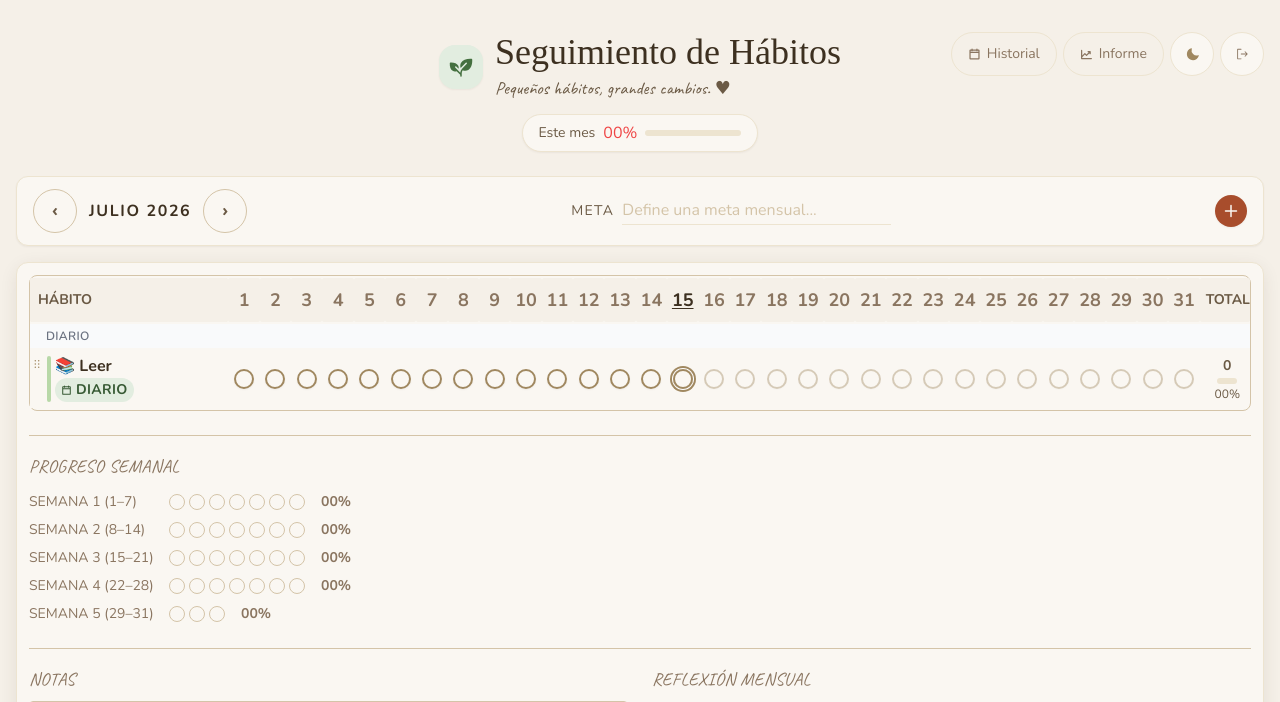
Test case: Tracker › shows an error toast instead of silently reverting when a toggle fails (e.g. offline)
Expected: the text "📚 Leer" is shown, [55,356,112,377]
Click the button named "2026-07-15, no completado". click: (683, 379)
box: [668,364,698,394]
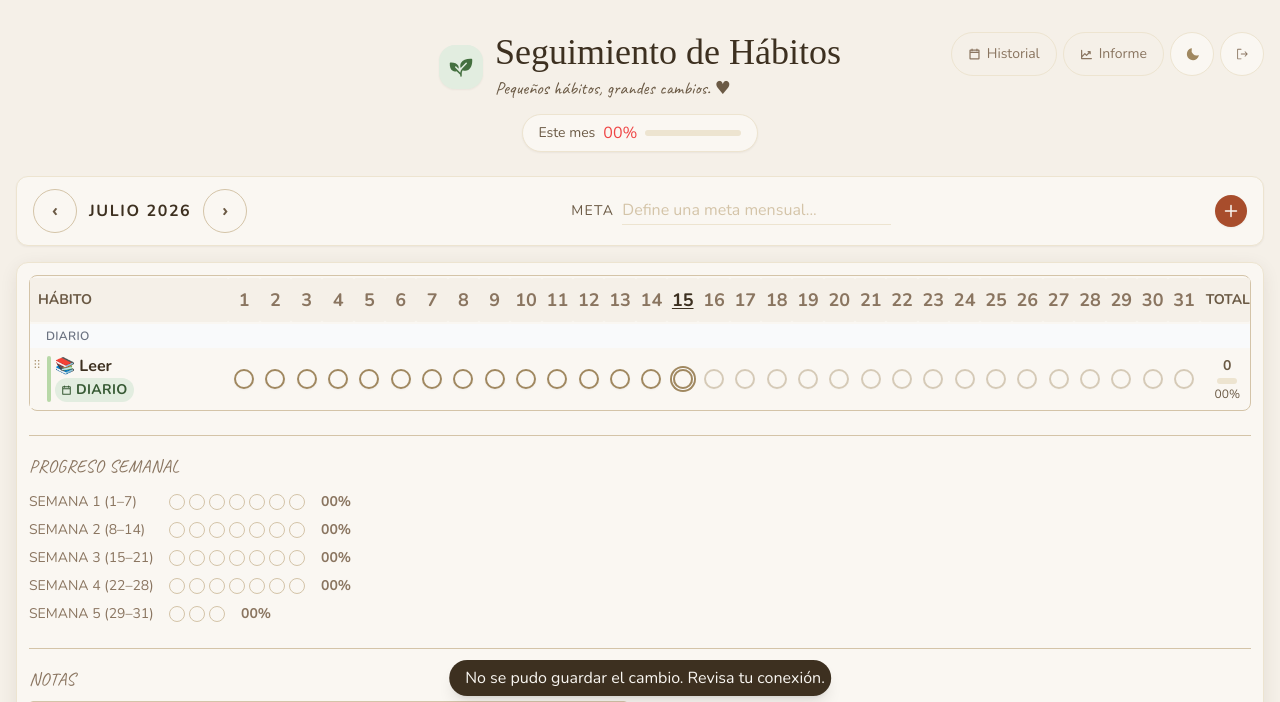
Now the text "No se pudo guardar el cambio. Revisa tu conexión." is shown, box [465,666,825,690]
